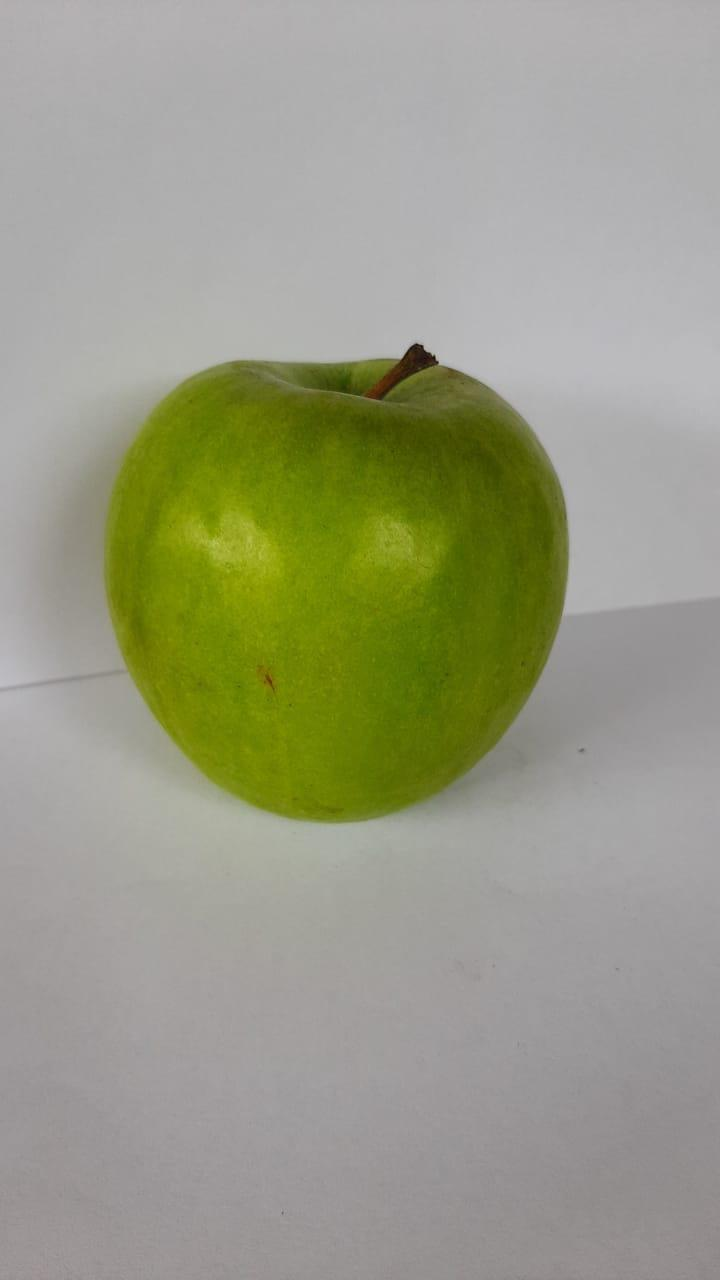fruit: (70, 316, 583, 838)
